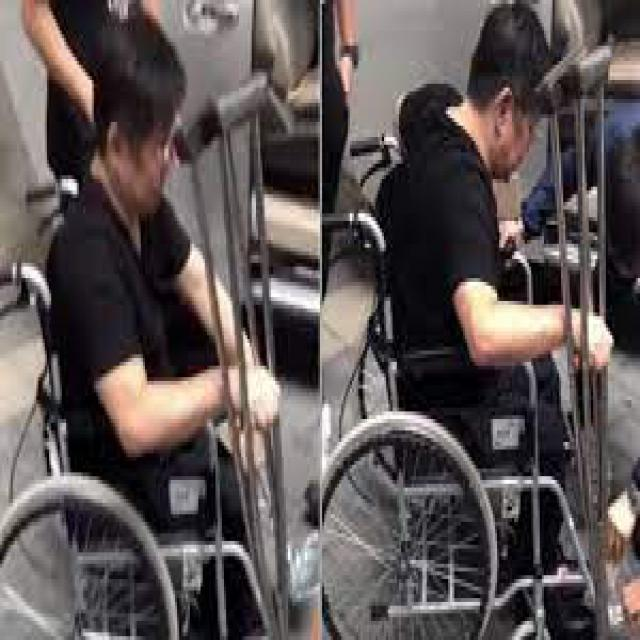wheelchairs: (324, 121, 612, 636), (4, 179, 284, 636)
